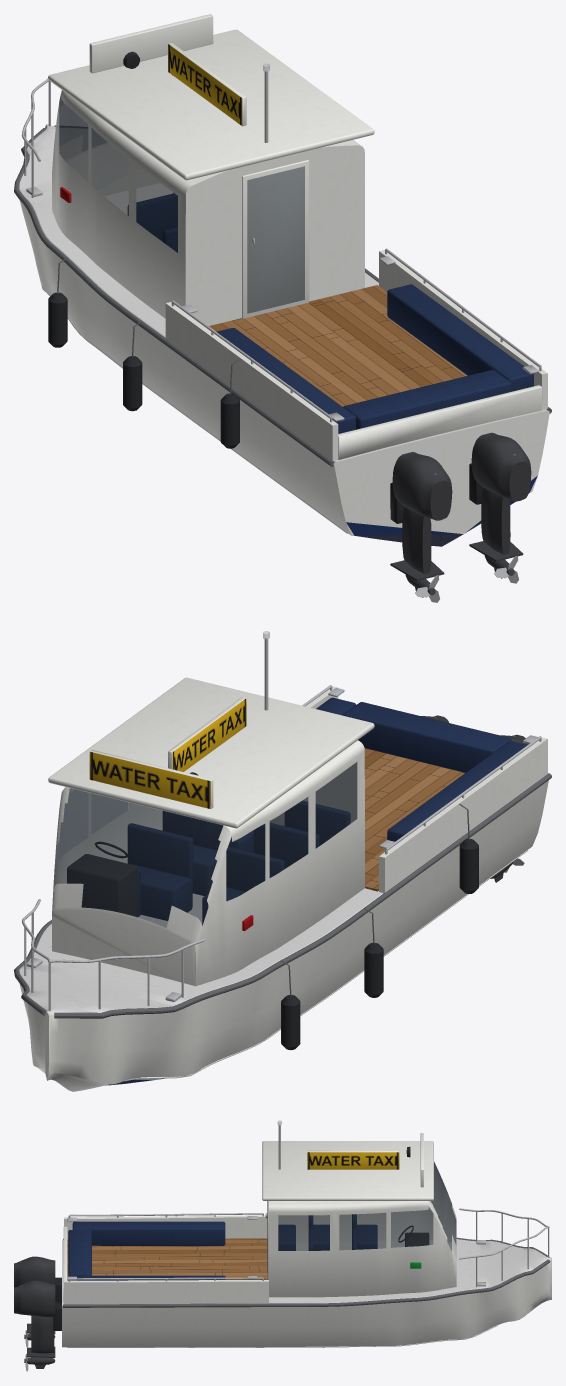
The model's file is boat_watertaxi.glb.
3 views of the same model, one above another, from view 1: azimuth 30°, elevation 25°; view 2: azimuth 150°, elevation 25°; view 3: azimuth 270°, elevation 25° (orthographic). The views are drawn at different scales.
Parts seen in each view (by area): view 1: Water taxi - Hull and cabin, white gelcoat, Water taxi - Aft deck, teak-look planking, Water taxi - Seat cushions, navy vinyl, Water taxi - Cabin windows, tinted (alpha-blended), Water taxi - Outboard motors, graphite grey, Water taxi - Foredeck, non-skid gelcoat, Water taxi - Satin black, Water taxi - Brushed steel, Water taxi - Rub rails, grey, Water taxi - Roof sign, WATER TAXI, Water taxi - Boot stripe, navy; view 2: Water taxi - Hull and cabin, white gelcoat, Water taxi - Cabin windows, tinted (alpha-blended), Water taxi - Seat cushions, navy vinyl, Water taxi - Foredeck, non-skid gelcoat, Water taxi - Aft deck, teak-look planking, Water taxi - Roof sign, WATER TAXI, Water taxi - Rub rails, grey, Water taxi - Brushed steel, Water taxi - Satin black, Water taxi - Cabin interior, grey; view 3: Water taxi - Hull and cabin, white gelcoat, Water taxi - Seat cushions, navy vinyl, Water taxi - Cabin windows, tinted (alpha-blended), Water taxi - Aft deck, teak-look planking, Water taxi - Foredeck, non-skid gelcoat, Water taxi - Outboard motors, graphite grey, Water taxi - Brushed steel, Water taxi - Rub rails, grey, Water taxi - Roof sign, WATER TAXI, Water taxi - Satin black, Water taxi - Cabin interior, grey.
Part boxes in pixels (x1,y1,x2,y2): Water taxi - Hull and cabin, white gelcoat: (19, 14, 549, 535); Water taxi - Aft deck, teak-look planking: (209, 285, 467, 406); Water taxi - Seat cushions, navy vinyl: (127, 193, 533, 433); Water taxi - Cabin windows, tinted (alpha-blended): (54, 94, 304, 313); Water taxi - Outboard motors, graphite grey: (390, 432, 531, 597); Water taxi - Foredeck, non-skid gelcoat: (19, 124, 547, 463); Water taxi - Satin black: (48, 51, 483, 523); Water taxi - Brushed steel: (21, 70, 541, 602); Water taxi - Rub rails, grey: (14, 125, 551, 475); Water taxi - Roof sign, WATER TAXI: (168, 44, 242, 125); Water taxi - Boot stripe, navy: (346, 475, 537, 535); Water taxi - Hull and cabin, white gelcoat: (19, 677, 548, 1091); Water taxi - Cabin windows, tinted (alpha-blended): (53, 762, 357, 927); Water taxi - Seat cushions, navy vinyl: (127, 697, 527, 925); Water taxi - Foredeck, non-skid gelcoat: (19, 888, 383, 1012); Water taxi - Aft deck, teak-look planking: (364, 748, 464, 891); Water taxi - Roof sign, WATER TAXI: (89, 698, 246, 808); Water taxi - Rub rails, grey: (14, 716, 551, 1018); Water taxi - Brushed steel: (22, 637, 541, 1010); Water taxi - Satin black: (95, 772, 478, 1050); Water taxi - Cabin interior, grey: (67, 854, 137, 917); Water taxi - Hull and cabin, white gelcoat: (62, 1133, 551, 1347); Water taxi - Seat cushions, navy vinyl: (68, 1214, 377, 1280); Water taxi - Cabin windows, tinted (alpha-blended): (267, 1162, 456, 1273); Water taxi - Aft deck, teak-look planking: (67, 1238, 268, 1280); Water taxi - Foredeck, non-skid gelcoat: (62, 1239, 551, 1305); Water taxi - Outboard motors, graphite grey: (14, 1256, 55, 1368); Water taxi - Brushed steel: (25, 1124, 549, 1371); Water taxi - Rub rails, grey: (20, 1215, 550, 1307); Water taxi - Roof sign, WATER TAXI: (307, 1152, 399, 1169); Water taxi - Satin black: (53, 1146, 413, 1330); Water taxi - Cabin interior, grey: (405, 1232, 429, 1246).
Size of the model in its own units: 3.55 by 5.34 by 11.
17 materials, 12 textured.
